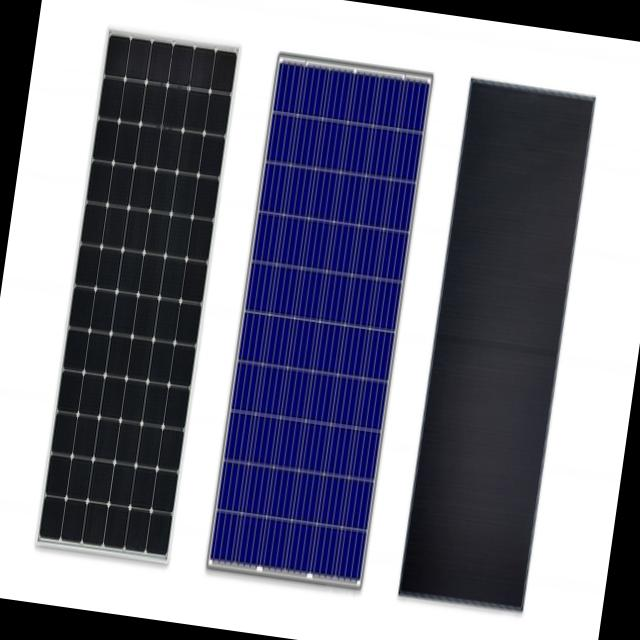no faulty: (216, 66, 429, 584), (402, 78, 596, 613), (41, 44, 237, 557)
